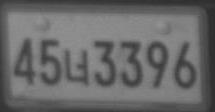3: (120, 40, 143, 87), (94, 39, 116, 86)
4: (12, 37, 38, 86)
5: (40, 37, 62, 85)
6: (173, 40, 197, 89)
9: (146, 40, 169, 87)
너: (63, 47, 90, 88)
